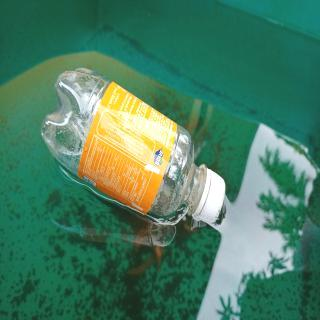bottle: (39, 64, 228, 222)
